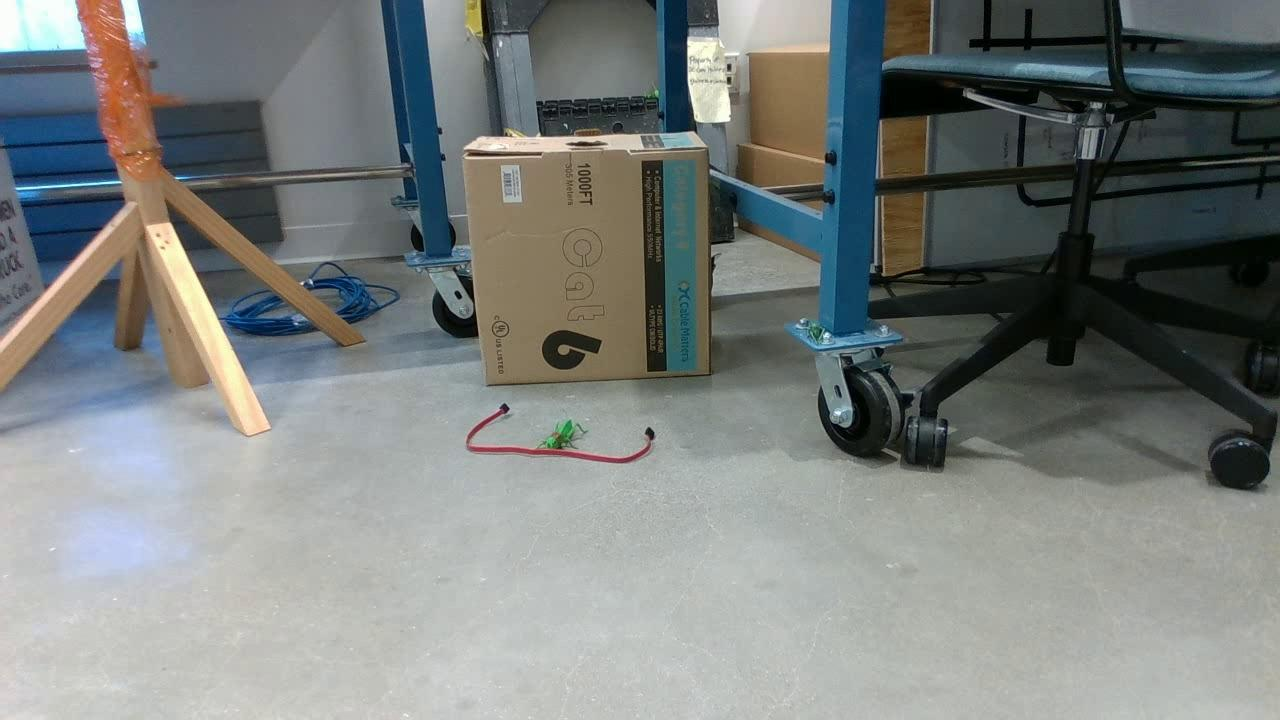grasshopper: (542, 417, 585, 452), (647, 81, 660, 98)
